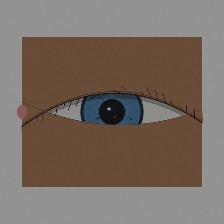pinguecula_lesion: (163, 94, 199, 123)
